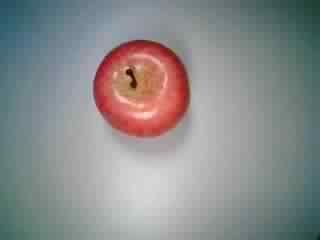apple: (91, 39, 196, 141)
